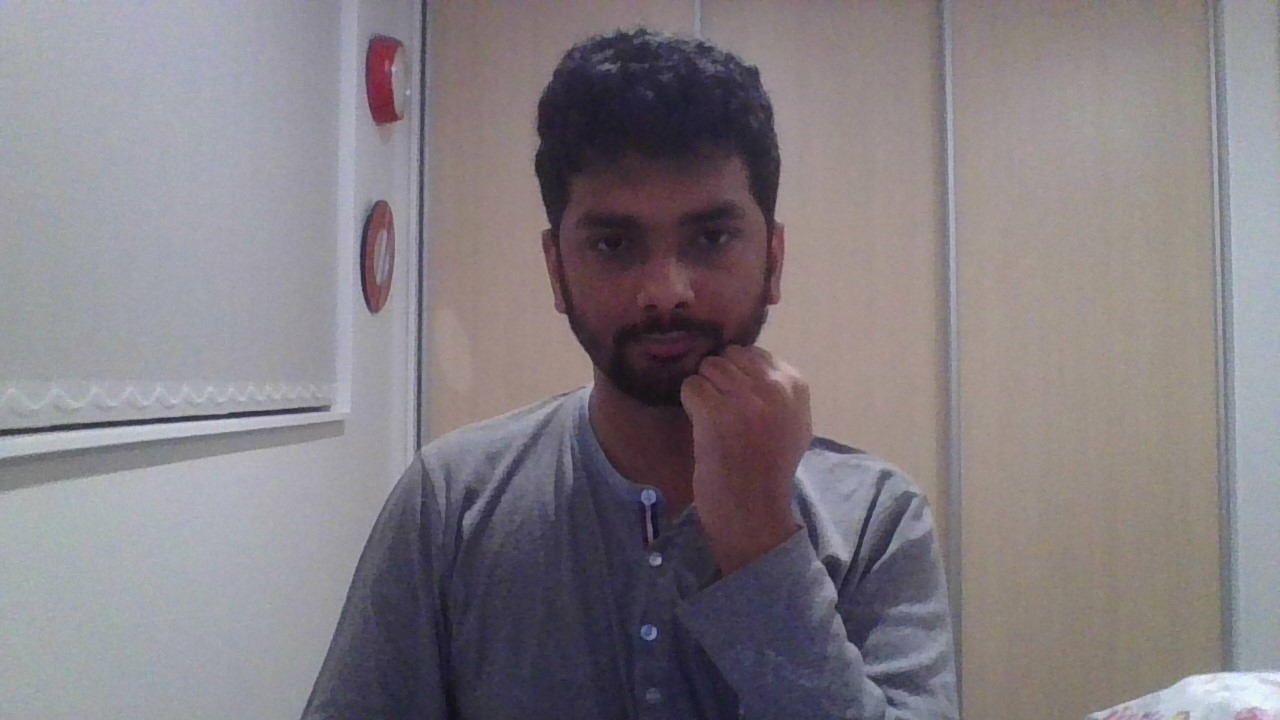day: (678, 343, 811, 577)
